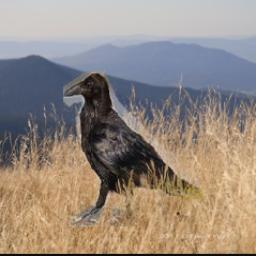Crow: (64, 73, 205, 228)
